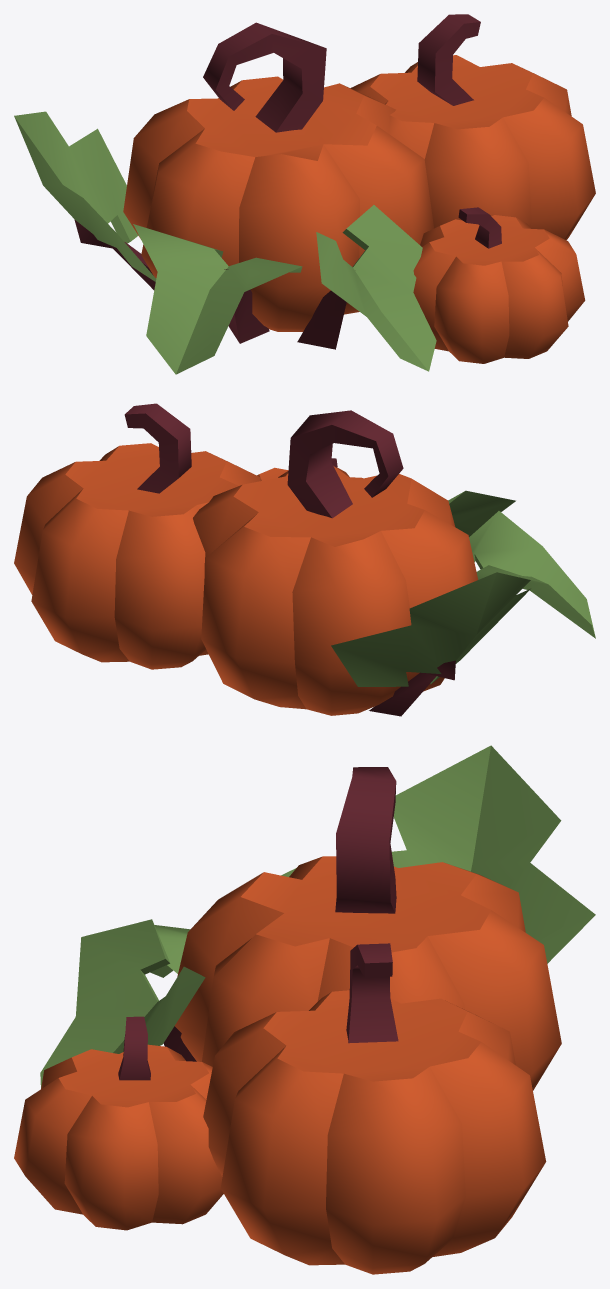
Rendered from Pumpkins.fbx.
The picture shows the model from 3 angles, top to bottom: view 1: azimuth 30°, elevation 25°; view 2: azimuth 150°, elevation 25°; view 3: azimuth 270°, elevation 25°; orthographic projection. The views are drawn at different scales.
Parts seen in each view (by area): view 1: Pumpkins; view 2: Pumpkins; view 3: Pumpkins.
Part boxes in pixels (box(x1,y1,x2,y2)): Pumpkins: box(14, 14, 595, 374); Pumpkins: box(14, 403, 595, 716); Pumpkins: box(14, 745, 595, 1274).
Bounding box in the file's own units: 50.94 × 25.3 × 39.64.
